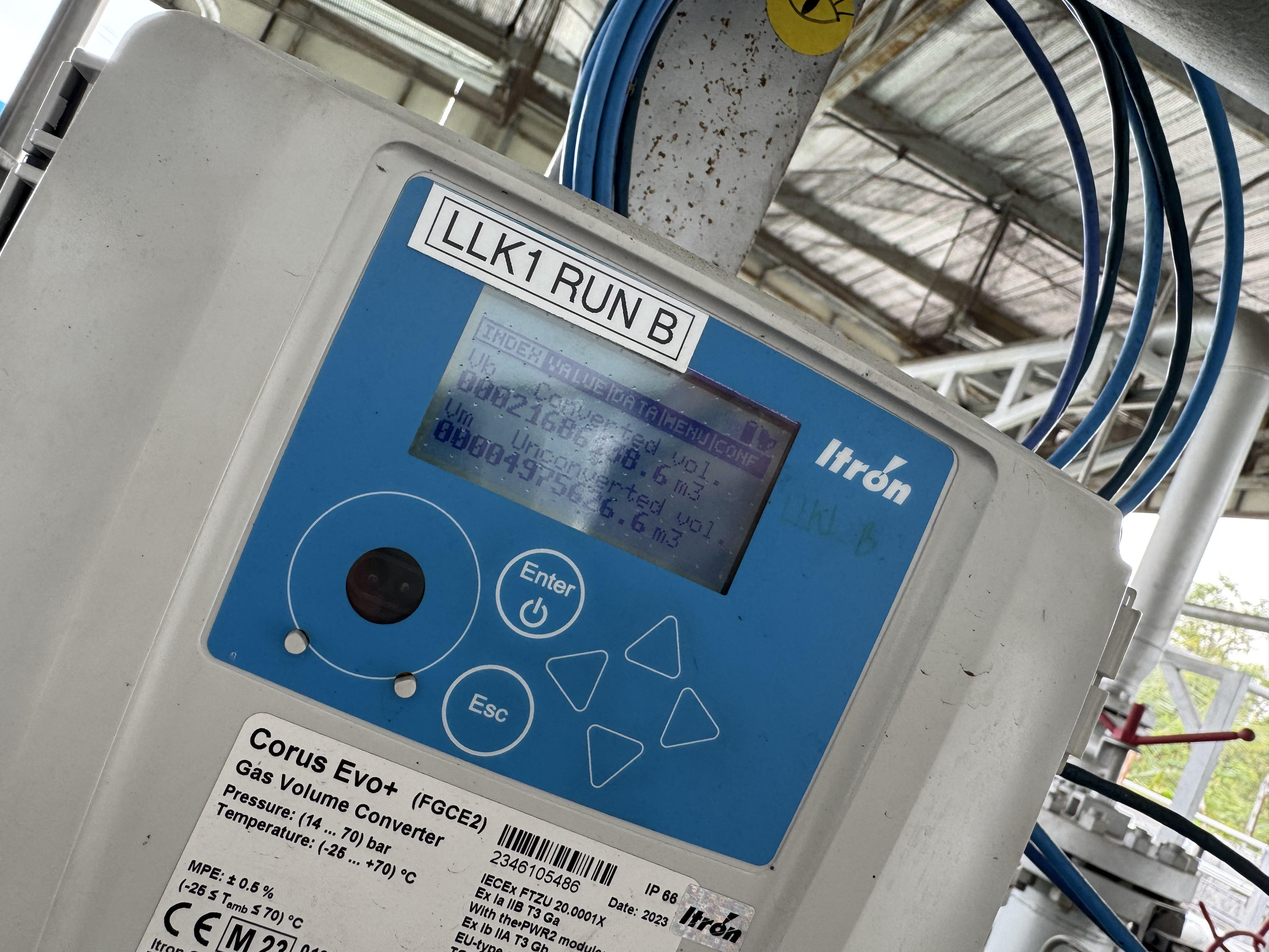digital_screen: (407, 275, 806, 596)
